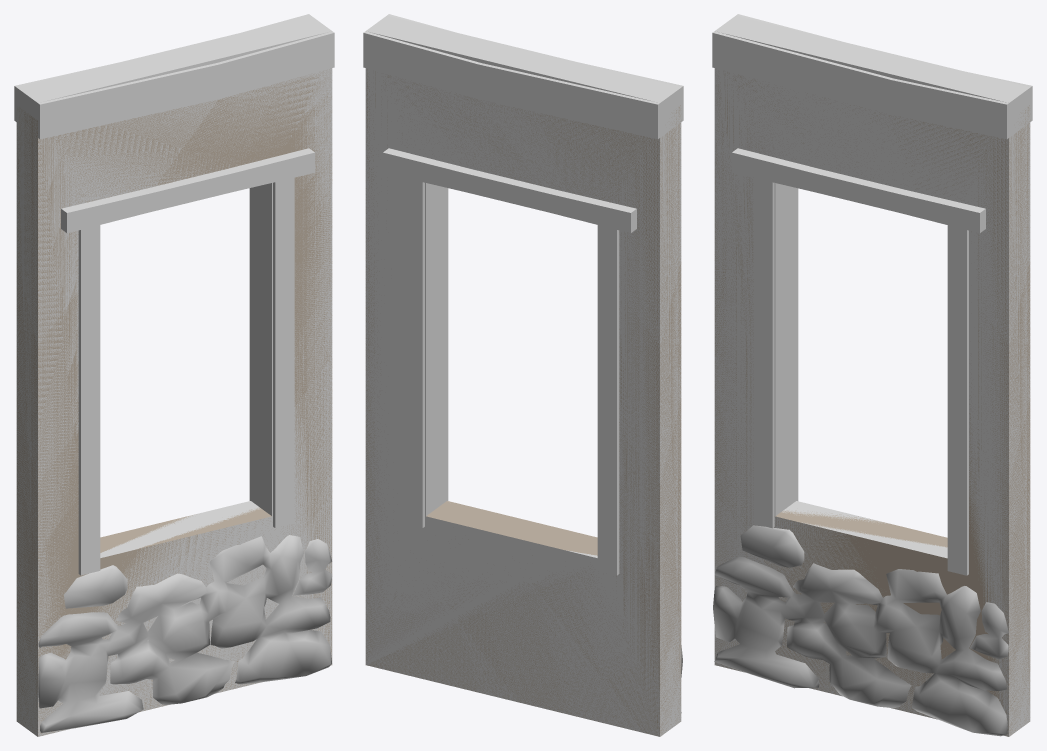
The model's file is Foundation_Wall_1_Door_1.fbx.
3 views of the same model, side by side, from view 1: azimuth 30°, elevation 25°; view 2: azimuth 150°, elevation 25°; view 3: azimuth 330°, elevation 25° (orthographic).
Visible parts, largest first — view 1: Foundation_Wall_1_Door_1_LOD0, Foundation_Wall_1_Door_1_COL0; view 2: Foundation_Wall_1_Door_1_COL0, Foundation_Wall_1_Door_1_LOD0; view 3: Foundation_Wall_1_Door_1_LOD0, Foundation_Wall_1_Door_1_COL0.
Boxes of the visible parts, x1,y1,x2,y2 form: Foundation_Wall_1_Door_1_LOD0: (14,14,334,736); Foundation_Wall_1_Door_1_COL0: (16,15,332,736); Foundation_Wall_1_Door_1_COL0: (365,15,681,736); Foundation_Wall_1_Door_1_LOD0: (363,14,683,735); Foundation_Wall_1_Door_1_LOD0: (712,14,1032,736); Foundation_Wall_1_Door_1_COL0: (714,15,1030,736).
Size of what is drawn, in the model's own units: 200 by 411 by 38.99.
